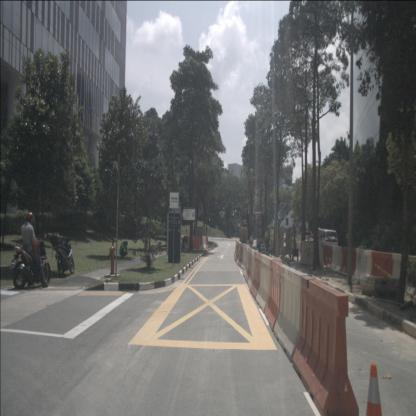barrier: (293, 276, 359, 416), (274, 265, 308, 363), (264, 259, 285, 332), (256, 254, 274, 314), (391, 254, 416, 286), (370, 251, 394, 282), (249, 252, 264, 300), (353, 248, 375, 280), (340, 247, 358, 275), (247, 249, 258, 289), (330, 246, 345, 274), (312, 242, 324, 266), (245, 248, 253, 284), (322, 245, 334, 267), (241, 243, 250, 271), (243, 247, 251, 278), (301, 241, 312, 263), (238, 243, 245, 267), (235, 242, 242, 264), (234, 240, 239, 262), (187, 236, 195, 248), (194, 237, 201, 249), (201, 236, 206, 250), (206, 236, 209, 248)
cone: (366, 363, 383, 415)
